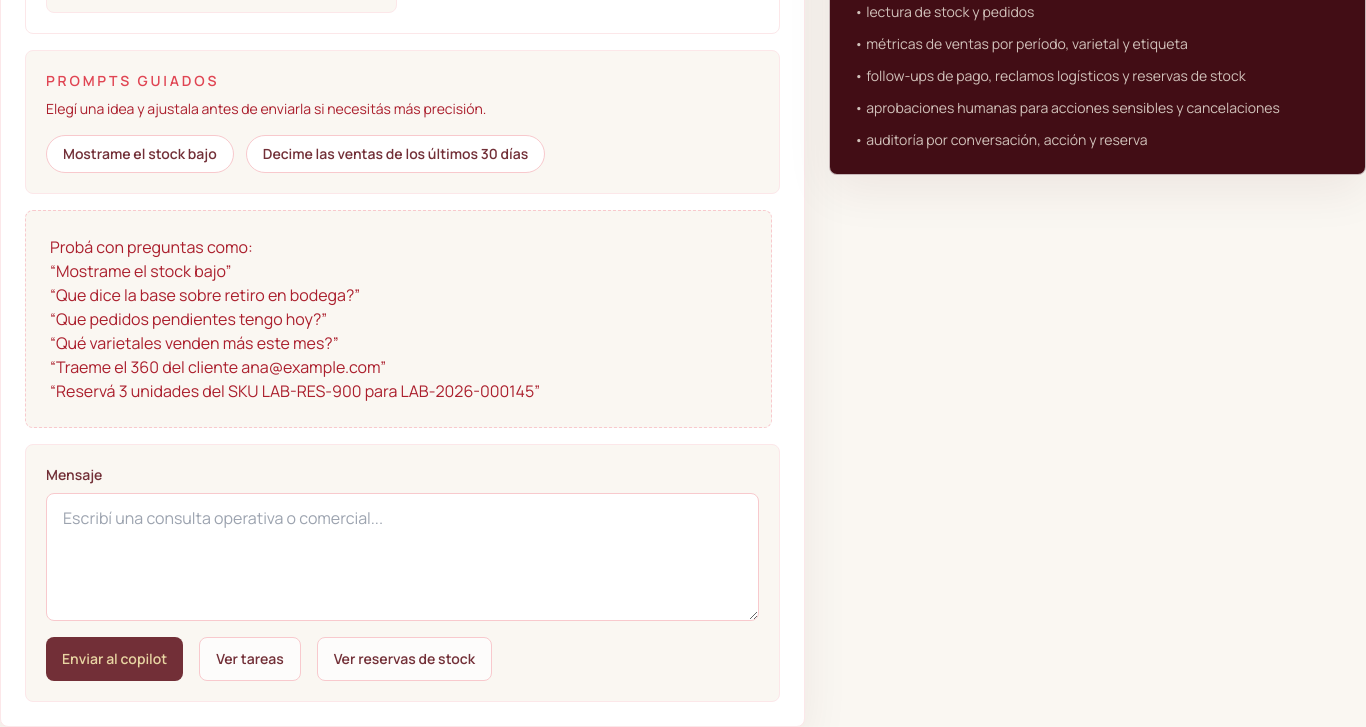
Test: BackofficeCopilotPage › sends a message and renders the returned conversation state
(page scrolled)
Type "Mostrame el stock bajo" into the text box labelled "Mensaje". click: (403, 556)
box: [46, 492, 759, 620]
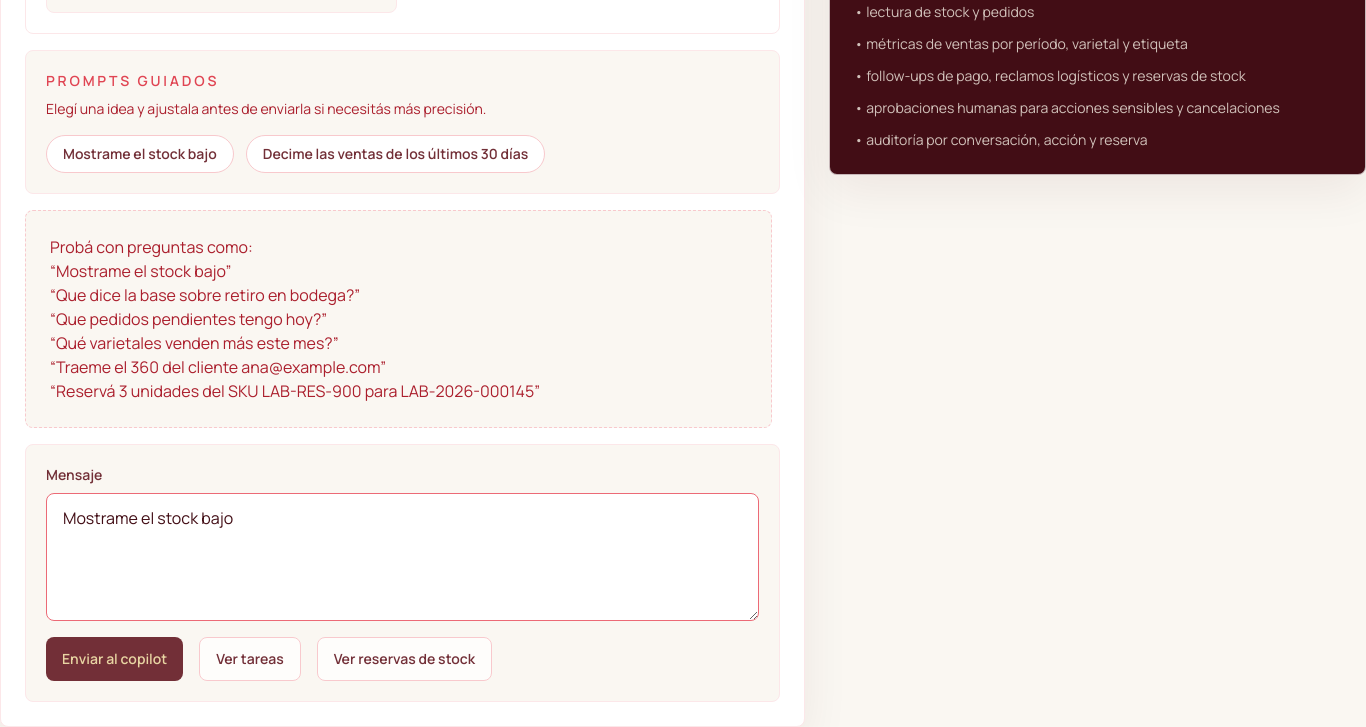
Click the button "Enviar al copilot". click: (115, 658)
box: [46, 636, 183, 680]
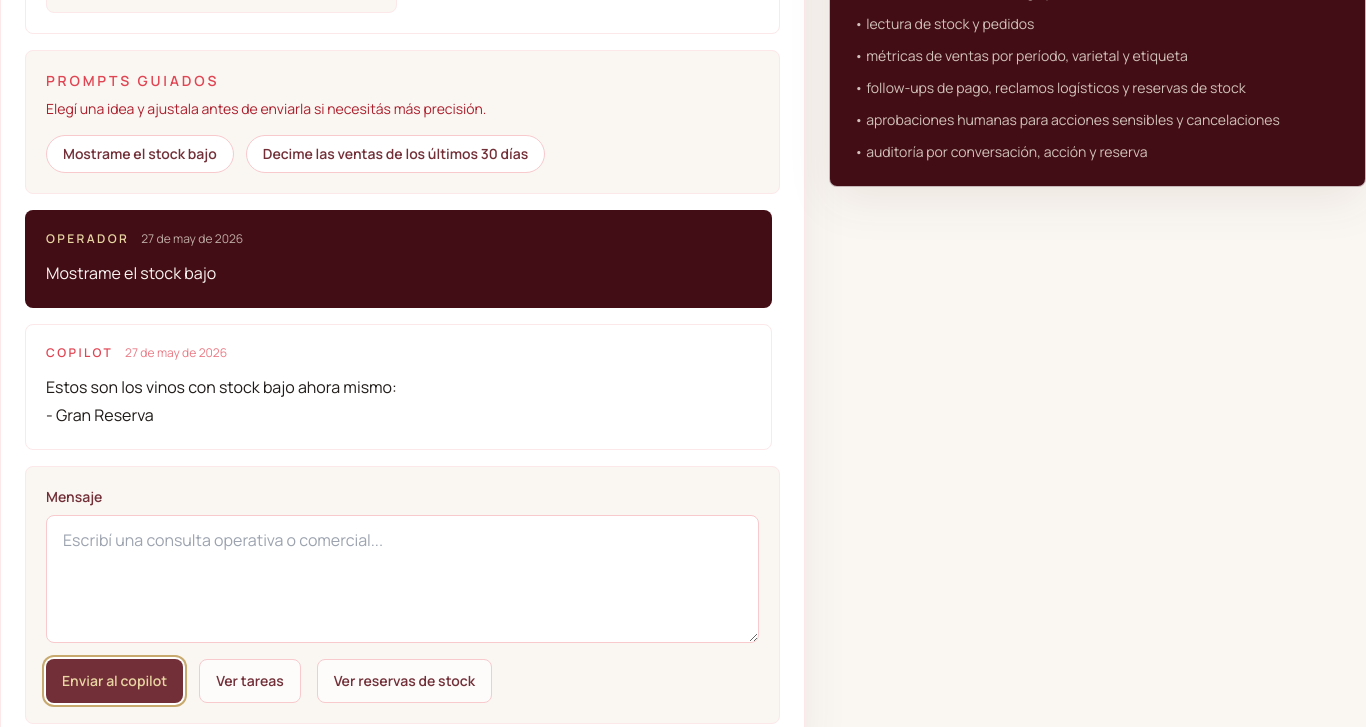
Check: the button "Ver tareas" is shown, box [199, 658, 301, 702]
Check: the text "Estos son los vinos con stock bajo" is shown, box [46, 376, 397, 426]
